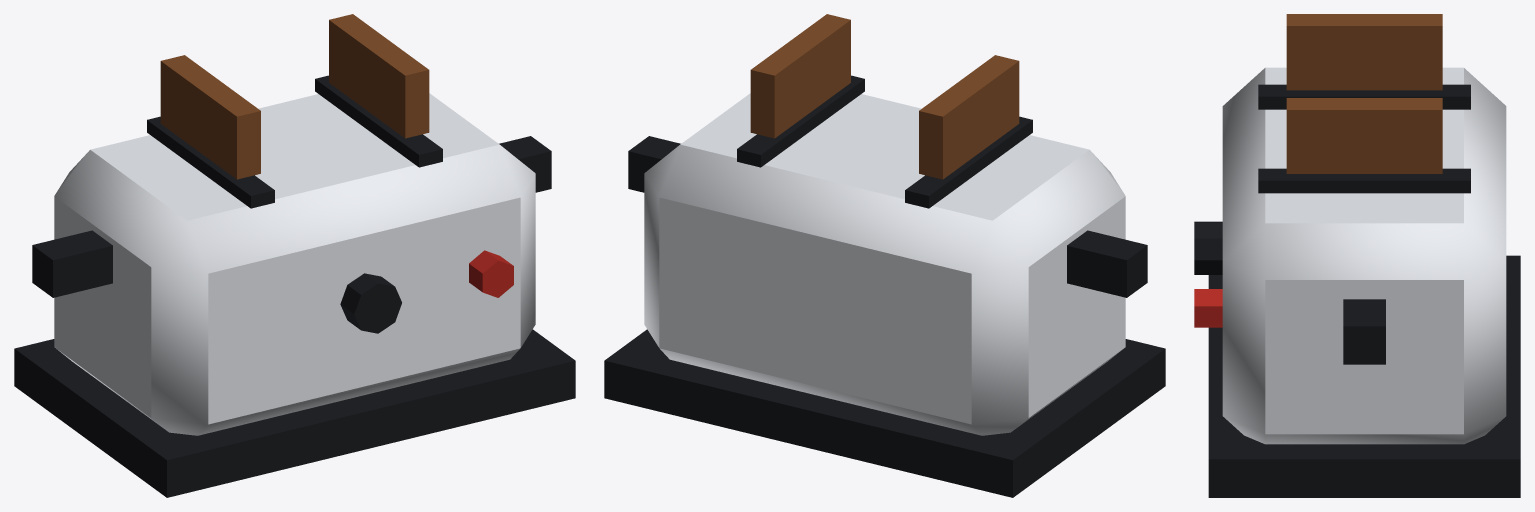
The model's file is galley_toaster.glb.
3 views of the same model, side by side, from view 1: azimuth 30°, elevation 25°; view 2: azimuth 150°, elevation 25°; view 3: azimuth 270°, elevation 25° (orthographic). The views are drawn at different scales.
Parts seen in each view (by area): view 1: galley_toaster; view 2: galley_toaster; view 3: galley_toaster.
Boxes of the visible parts, x1,y1,x2,y2 form: galley_toaster: (14,14,575,497); galley_toaster: (604,14,1165,497); galley_toaster: (1194,14,1520,497).
Size of the model in its own units: 0.415 by 0.26 by 0.23.
